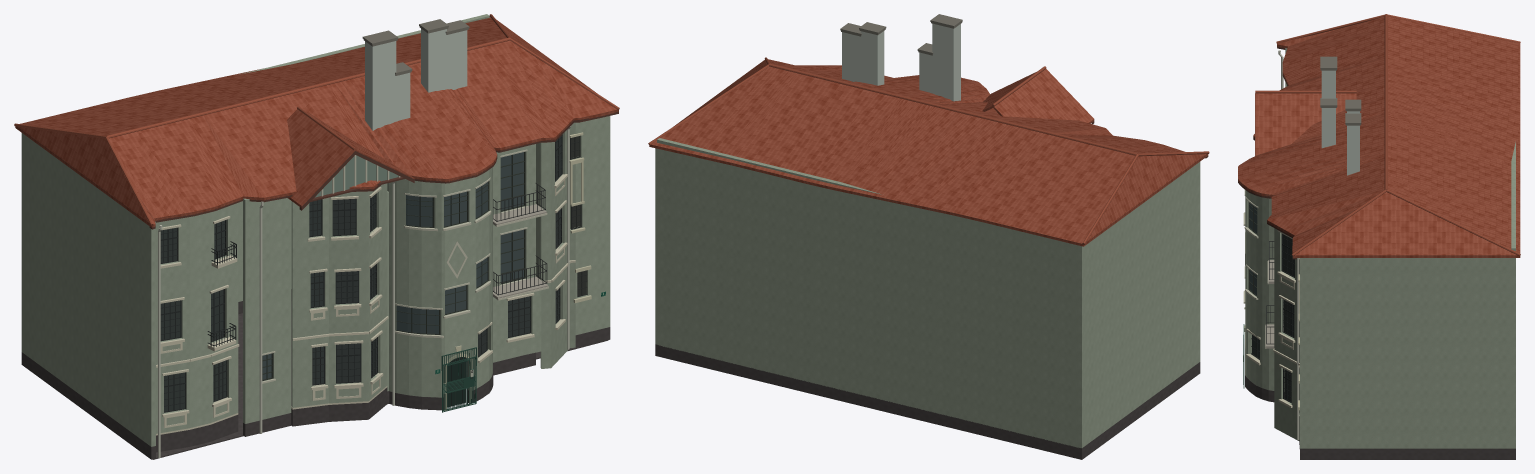
The model's file is xuhui-yanqing-2-green-street-residence-lod.glb.
3 views of the same model, side by side, from view 1: azimuth 30°, elevation 25°; view 2: azimuth 150°, elevation 25°; view 3: azimuth 270°, elevation 25° (orthographic). The views are drawn at different scales.
Visible parts, largest first — view 1: 延庆路2号浅绿住宅与弧形楼梯间; view 2: 延庆路2号浅绿住宅与弧形楼梯间; view 3: 延庆路2号浅绿住宅与弧形楼梯间.
Boxes of the visible parts, x1,y1,x2,y2 form: 延庆路2号浅绿住宅与弧形楼梯间: [14, 14, 619, 459]; 延庆路2号浅绿住宅与弧形楼梯间: [648, 14, 1209, 459]; 延庆路2号浅绿住宅与弧形楼梯间: [1238, 14, 1520, 459].
Bounding box in the file's own units: 21.54 × 14.84 × 12.4.
Materials: 27 (3 with a texture image).
